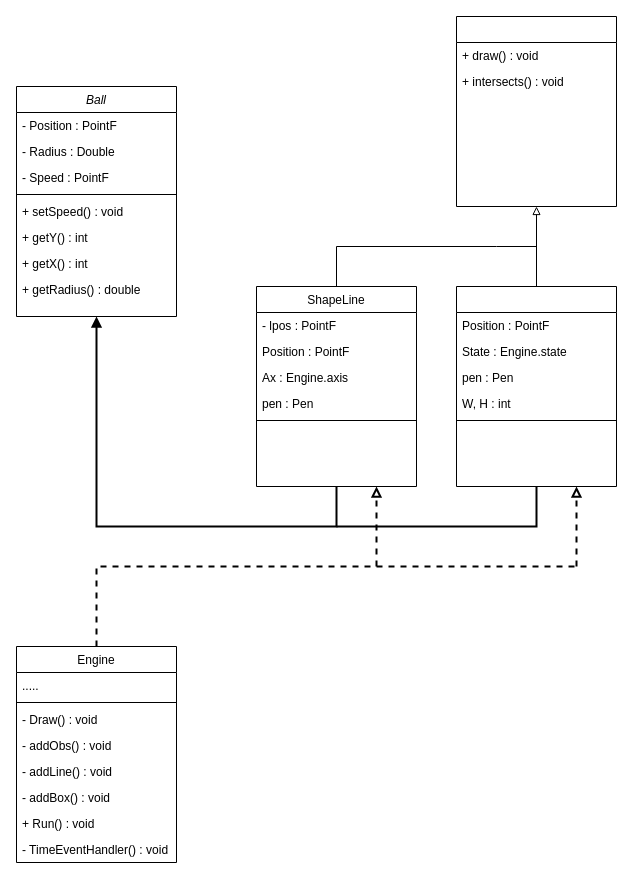
The diagram is 633 pixels wide and 879 high, and some of its shapes have lost their labels. Here are the shapes that lost their labels. From the top down, the box of each, then its label:
(456, 16, 616, 206): Ishapes
(456, 286, 616, 486): ShapeBox
